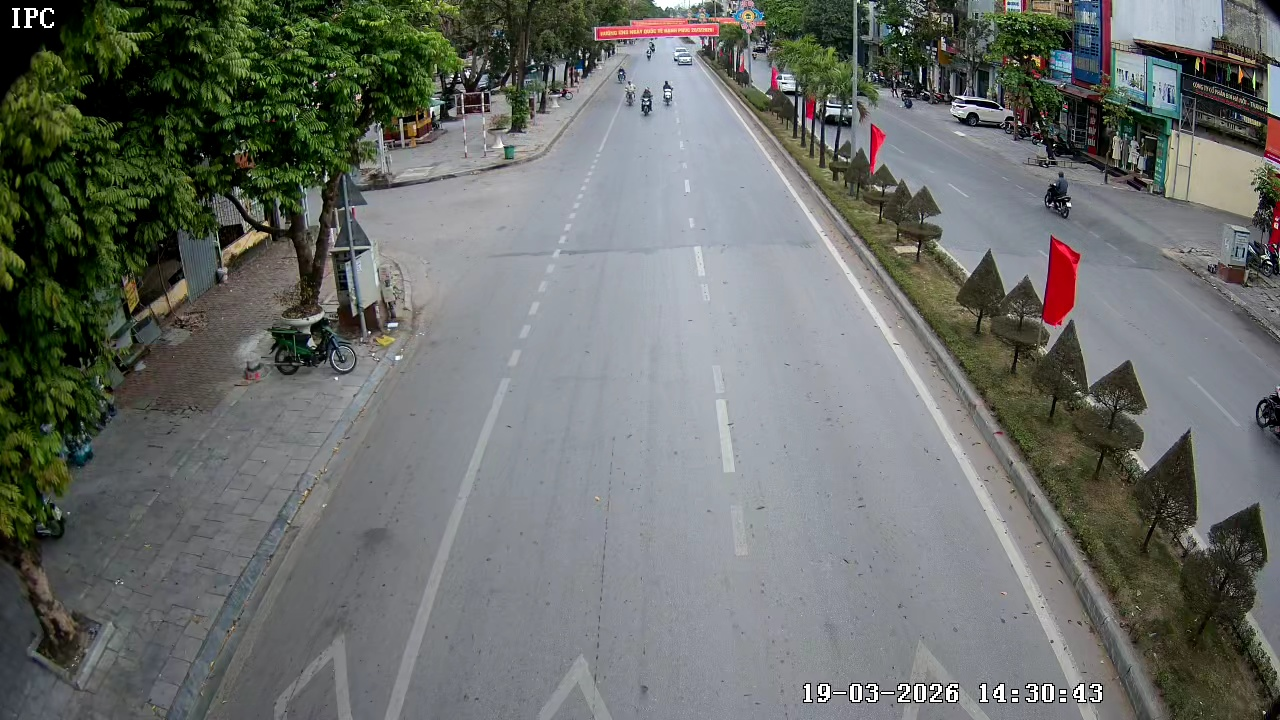motorbike: (267, 316, 364, 374), (639, 85, 657, 117), (662, 80, 678, 108), (624, 78, 635, 105)
